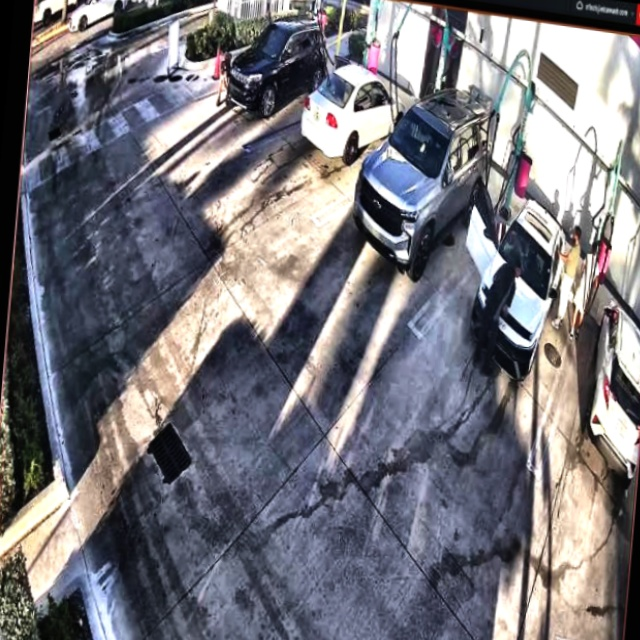Car: (350, 79, 495, 284), (460, 173, 569, 374), (301, 51, 408, 165)
